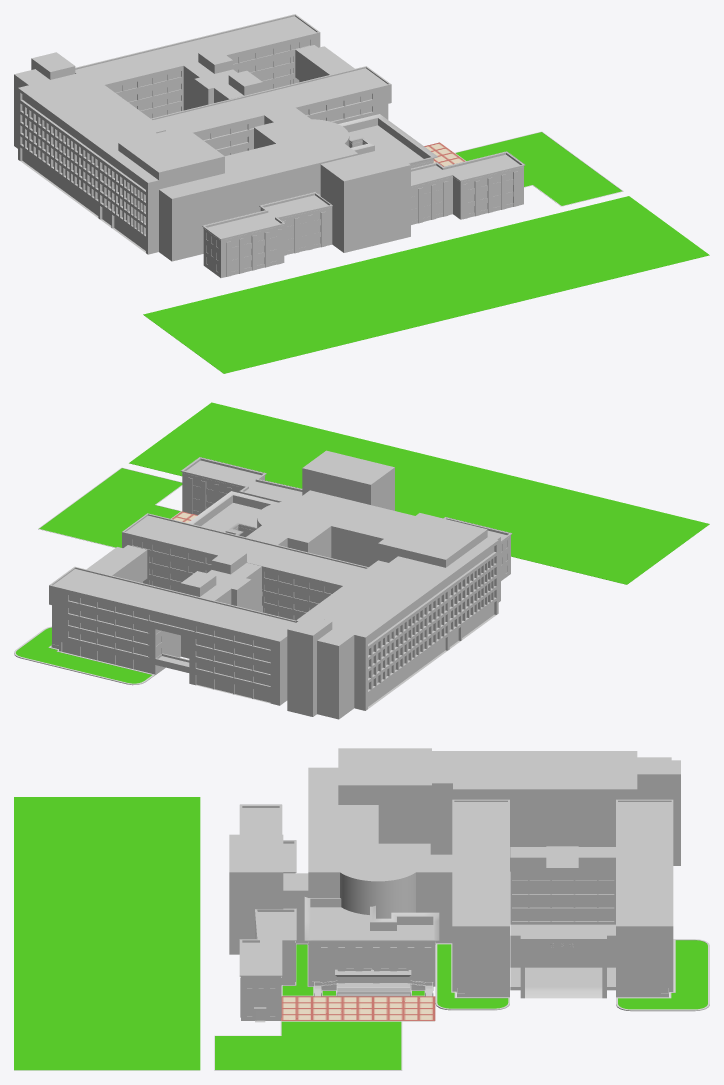
The model's file is tushuguan.fbx.
3 renders of one model, top to bottom at view 1: azimuth 30°, elevation 25°; view 2: azimuth 150°, elevation 25°; view 3: azimuth 270°, elevation 25°, orthographic. The views are drawn at different scales.
Parts seen in each view (by area): view 1: 立方体_4, 立方体_3_4, 立方体_9, 立方体_6, 立方体_8_3, 立方体_8_2, 立方体_3, 立方体_5_2, 立方体_4_3, 立方体_3_3, 立方体_7, win_2 (+7 smaller); view 2: 立方体_4, 立方体_9, 立方体_3_4, 立方体_3, 立方体_6, window_2, 立方体_8_2, 立方体_5_2, 立方体_8_3, 立方体_4_3, 立方体_2_5, 立方体_7 (+8 smaller); view 3: 立方体_4, 立方体_9, 立方体_3_4, 立方体_6, 立方体_3, 立方体_5_2, 立方体_8_3, 立方体_7, 立方体_4_3, 圆柱, 立方体_8_2, 立方体_1_4 (+14 smaller).
Boxes of the visible parts, bbox=[...] form: 立方体_4: bbox=[143, 196, 709, 373]; 立方体_3_4: bbox=[14, 69, 165, 254]; 立方体_9: bbox=[75, 14, 391, 154]; 立方体_6: bbox=[159, 108, 358, 261]; 立方体_8_3: bbox=[202, 151, 525, 277]; 立方体_8_2: bbox=[320, 148, 410, 252]; 立方体_3: bbox=[454, 131, 623, 206]; 立方体_5_2: bbox=[118, 126, 224, 189]; 立方体_4_3: bbox=[183, 48, 262, 110]; 立方体_3_3: bbox=[226, 171, 518, 276]; 立方体_7: bbox=[338, 114, 437, 168]; win_2: bbox=[231, 172, 512, 271]; 立方体_4: bbox=[129, 402, 709, 584]; 立方体_9: bbox=[49, 513, 368, 705]; 立方体_3_4: bbox=[296, 537, 498, 719]; 立方体_3: bbox=[38, 467, 182, 547]; 立方体_6: bbox=[246, 490, 500, 605]; window_2: bbox=[62, 595, 270, 702]; 立方体_8_2: bbox=[302, 450, 394, 510]; 立方体_5_2: bbox=[378, 513, 487, 567]; 立方体_8_3: bbox=[180, 457, 512, 580]; 立方体_4_3: bbox=[180, 549, 261, 658]; 立方体_2_5: bbox=[287, 615, 332, 716]; 立方体_7: bbox=[188, 491, 277, 537]; 立方体_4: bbox=[14, 797, 200, 1070]; 立方体_9: bbox=[452, 799, 673, 997]; 立方体_3_4: bbox=[432, 751, 671, 871]; 立方体_6: bbox=[308, 767, 452, 943]; 立方体_3: bbox=[214, 1021, 402, 1070]; 立方体_5_2: bbox=[338, 748, 431, 854]; 立方体_8_3: bbox=[239, 804, 296, 1020]; 立方体_7: bbox=[304, 897, 439, 986]; 立方体_4_3: bbox=[510, 846, 615, 924]; 圆柱: bbox=[333, 843, 422, 918]; 立方体_8_2: bbox=[229, 834, 283, 954]; 立方体_1_4: bbox=[510, 924, 615, 998].
Bounding box in the file's own units: 15444 × 2414 × 16617.
Materials: 3 (1 with a texture image).
